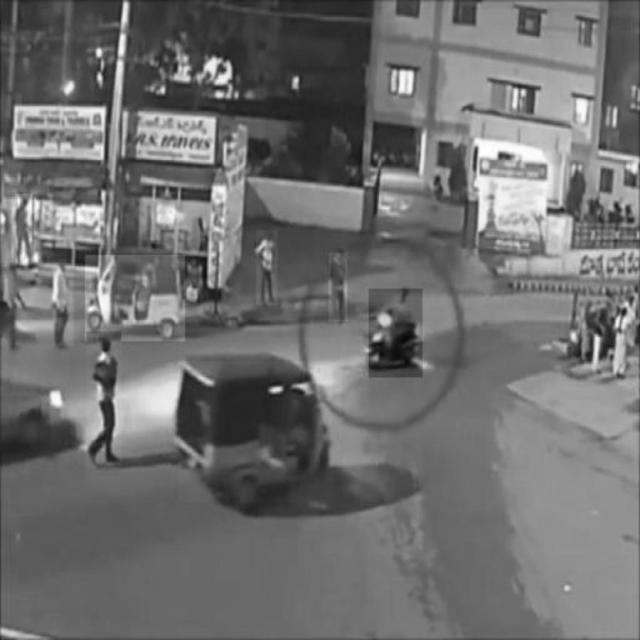person: (87, 331, 122, 468), (53, 258, 73, 346), (256, 231, 276, 305), (14, 194, 32, 265), (329, 252, 347, 320)
vehicle: (179, 361, 333, 502), (86, 255, 186, 341), (369, 289, 423, 377)
